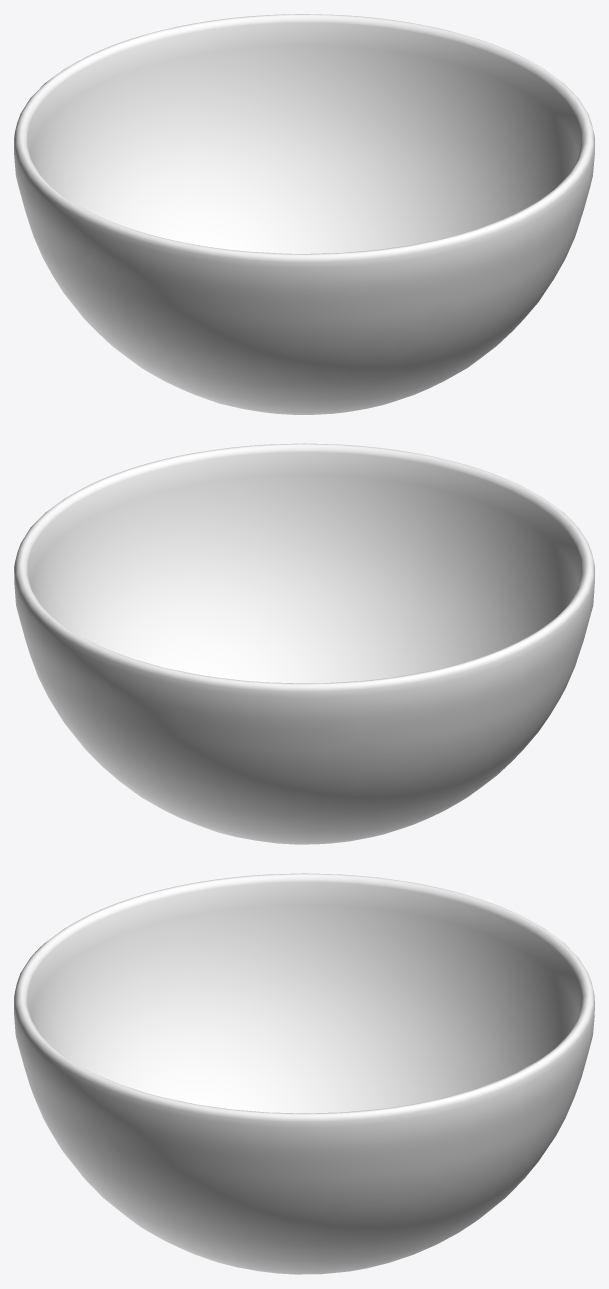
File: blanda_miska_90057252.glb
3 renders of one model, top to bottom at view 1: azimuth 30°, elevation 25°; view 2: azimuth 150°, elevation 25°; view 3: azimuth 270°, elevation 25°, orthographic.
Visible parts, largest first — view 1: blanda_miska_90057252; view 2: blanda_miska_90057252; view 3: blanda_miska_90057252.
Boxes of the visible parts, x1,y1,x2,y2 form: blanda_miska_90057252: (14, 14, 594, 414); blanda_miska_90057252: (14, 443, 594, 844); blanda_miska_90057252: (14, 873, 594, 1274).
Size of the model in its own units: 0.2007 by 0.0923 by 0.2006.
Materials: 1 (1 with a texture image).
